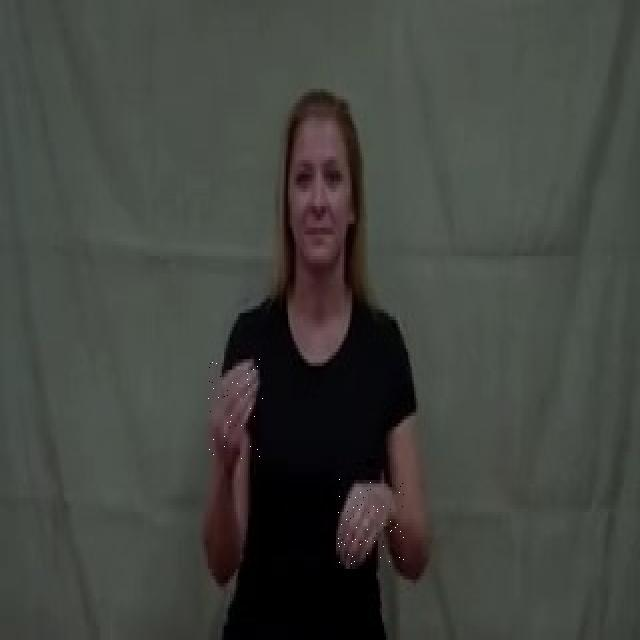ingredients: (334, 478, 404, 570), (208, 359, 268, 459)
